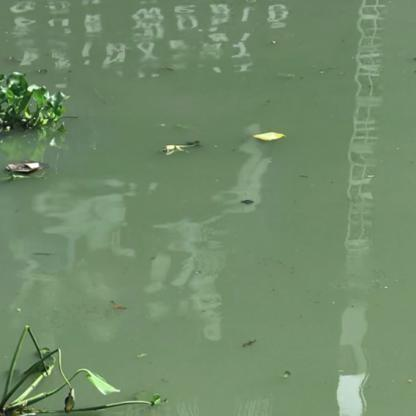Trash: (0, 154, 47, 177), (253, 128, 286, 147)
